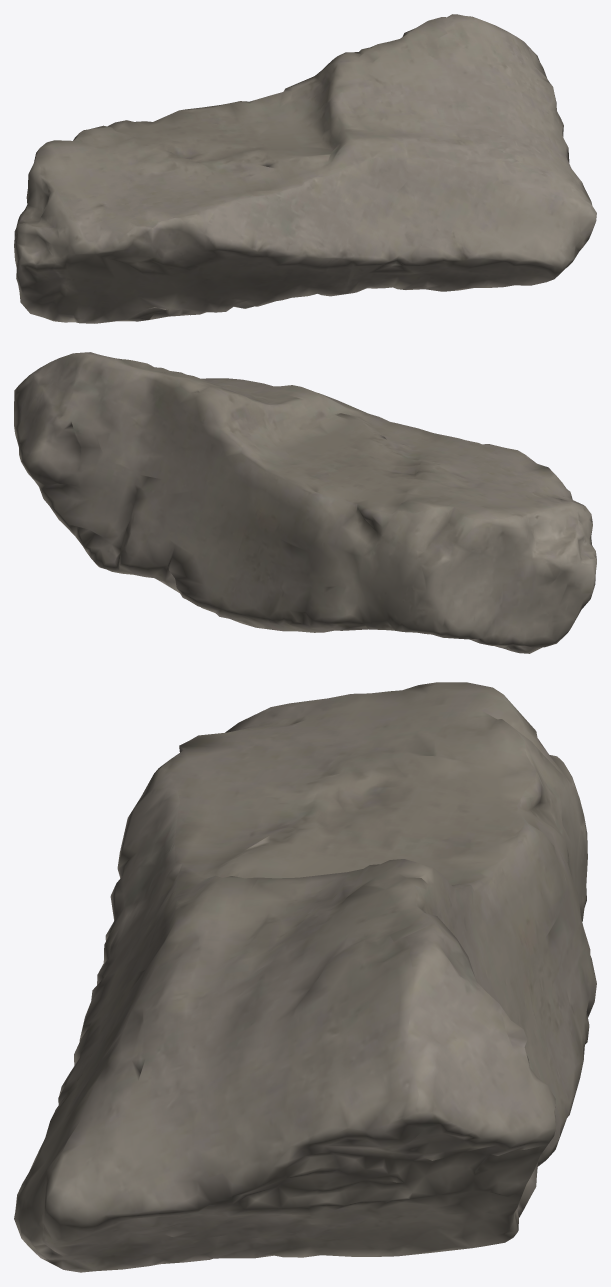
The model's file is moon_rock_01.glb.
3 views of the same model, one above another, from view 1: azimuth 30°, elevation 25°; view 2: azimuth 150°, elevation 25°; view 3: azimuth 270°, elevation 25° (orthographic). The views are drawn at different scales.
Visible parts, largest first — view 1: moon_rock_01_LOD1; view 2: moon_rock_01_LOD1; view 3: moon_rock_01_LOD1.
Part boxes in pixels (box(x1,y1,x2,y2)): moon_rock_01_LOD1: box(14, 14, 596, 323); moon_rock_01_LOD1: box(14, 352, 596, 653); moon_rock_01_LOD1: box(14, 682, 596, 1272).
Size of the model in its own units: 0.2121 by 0.0751 by 0.1116.
Materials: 1 (1 with a texture image).
